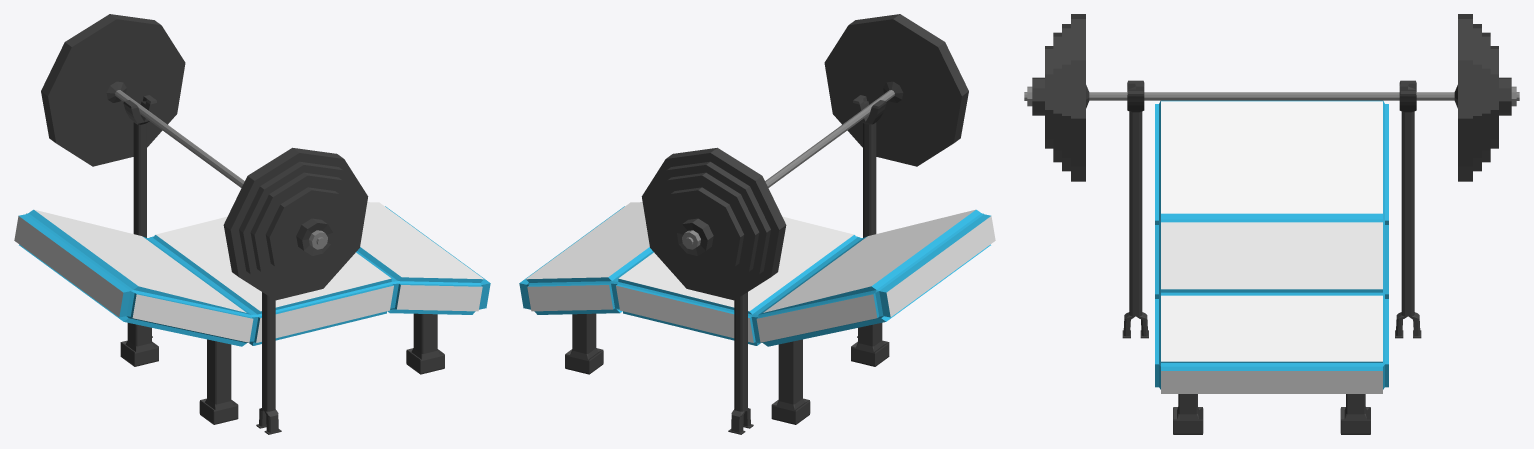
The model's file is Dorbells For Unity 1.fbx.
3 renders of one model, left to right at view 1: azimuth 30°, elevation 25°; view 2: azimuth 150°, elevation 25°; view 3: azimuth 270°, elevation 25°, orthographic. The views are drawn at different scales.
Visible parts, largest first — view 1: Cube, Cylinder, Cube.002; view 2: Cube, Cylinder, Cube.002; view 3: Cube, Cylinder, Cube.002.
Boxes of the visible parts, <box> form: Cube: <box>14,202,490,424</box>; Cylinder: <box>41,14,368,300</box>; Cube.002: <box>123,95,281,434</box>; Cube: <box>519,202,995,424</box>; Cylinder: <box>641,14,968,300</box>; Cube.002: <box>728,95,886,434</box>; Cube: <box>1155,100,1388,434</box>; Cylinder: <box>1024,14,1519,181</box>; Cube.002: <box>1122,80,1421,338</box>.
Size of the model in its own units: 607 by 466 by 662.
